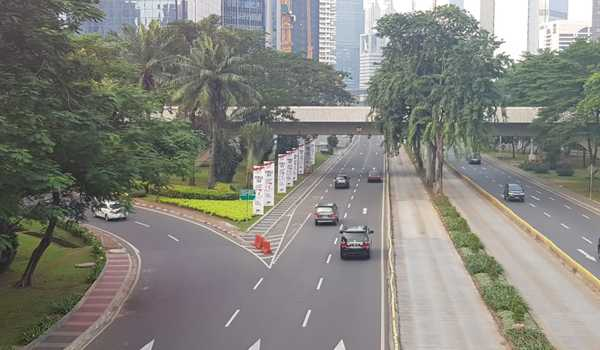car: (341, 224, 372, 261), (93, 199, 128, 221), (314, 202, 340, 227), (504, 182, 525, 202), (335, 175, 350, 190), (467, 150, 481, 166), (368, 169, 380, 184)
